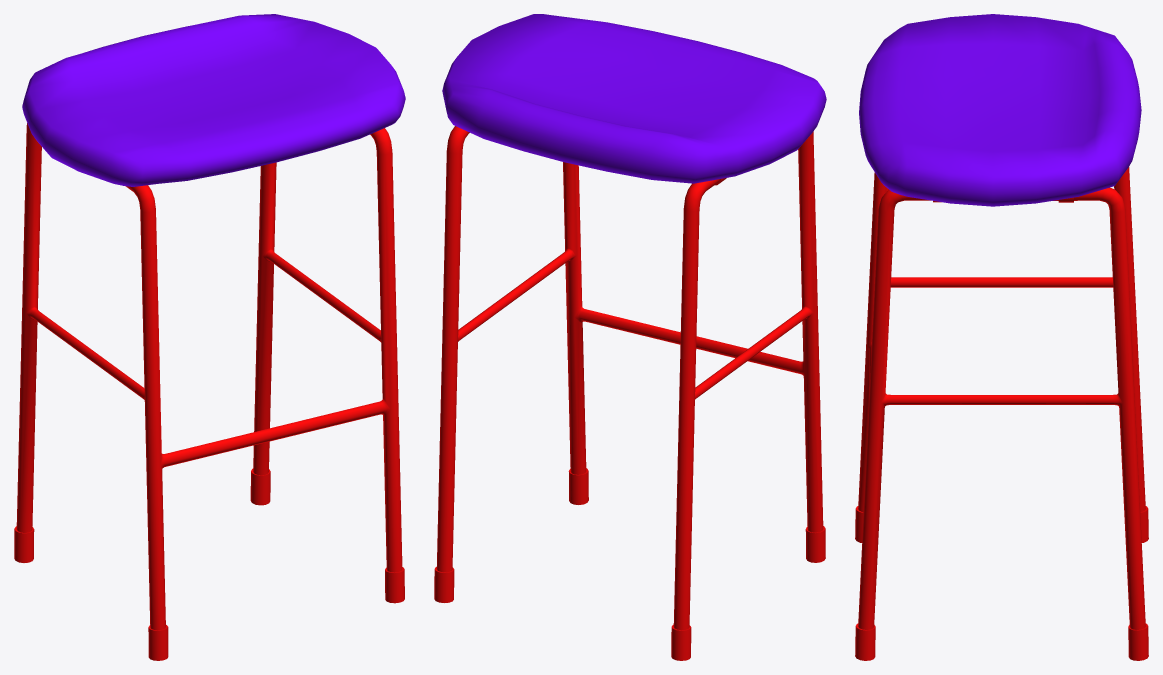
Rendered from STOOL.FBX.
3 renders of one model, left to right at view 1: azimuth 30°, elevation 25°; view 2: azimuth 150°, elevation 25°; view 3: azimuth 270°, elevation 25°, orthographic.
Parts seen in each view (by area): view 1: Cylinder029; view 2: Cylinder029; view 3: Cylinder029.
Boxes of the visible parts, x1,y1,x2,y2 form: Cylinder029: (14,14,405,660); Cylinder029: (434,14,826,660); Cylinder029: (855,14,1148,660).
Size of the model in its own units: 51.71 by 73.72 by 38.32.
